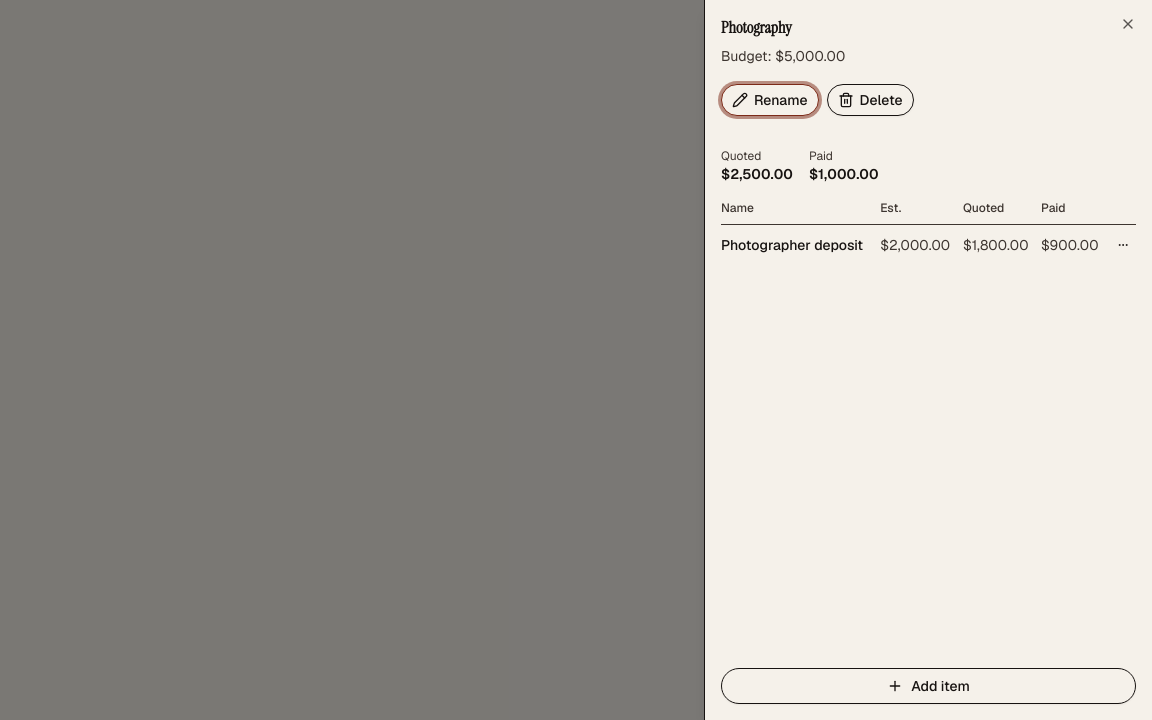
Test: BudgetCategoryPanel › shows edit form when edit menu item is clicked
What coordinates should you click on to do the following:
click the button named "Actions for Photographer deposit"
I would click on:
 (1122, 245)
Its box is [1110, 233, 1134, 257].
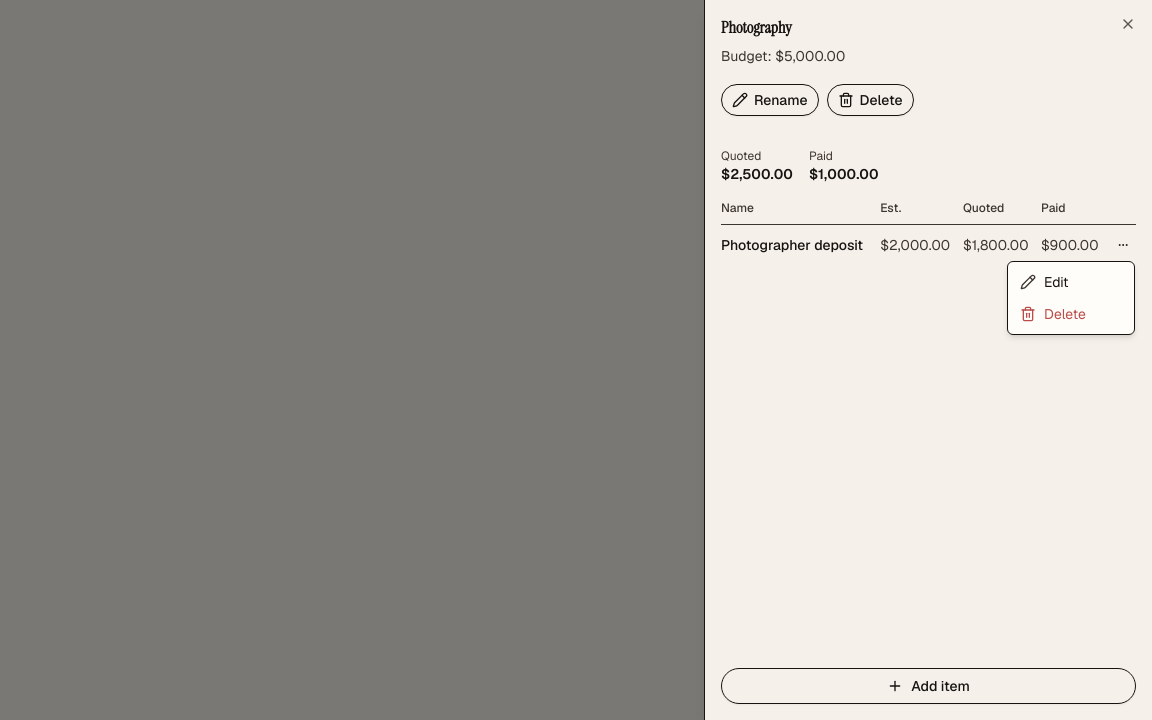
What coordinates should you click on to do the following:
click the menu item "Edit"
I would click on:
 (1044, 282)
Its box is [1020, 273, 1069, 291].
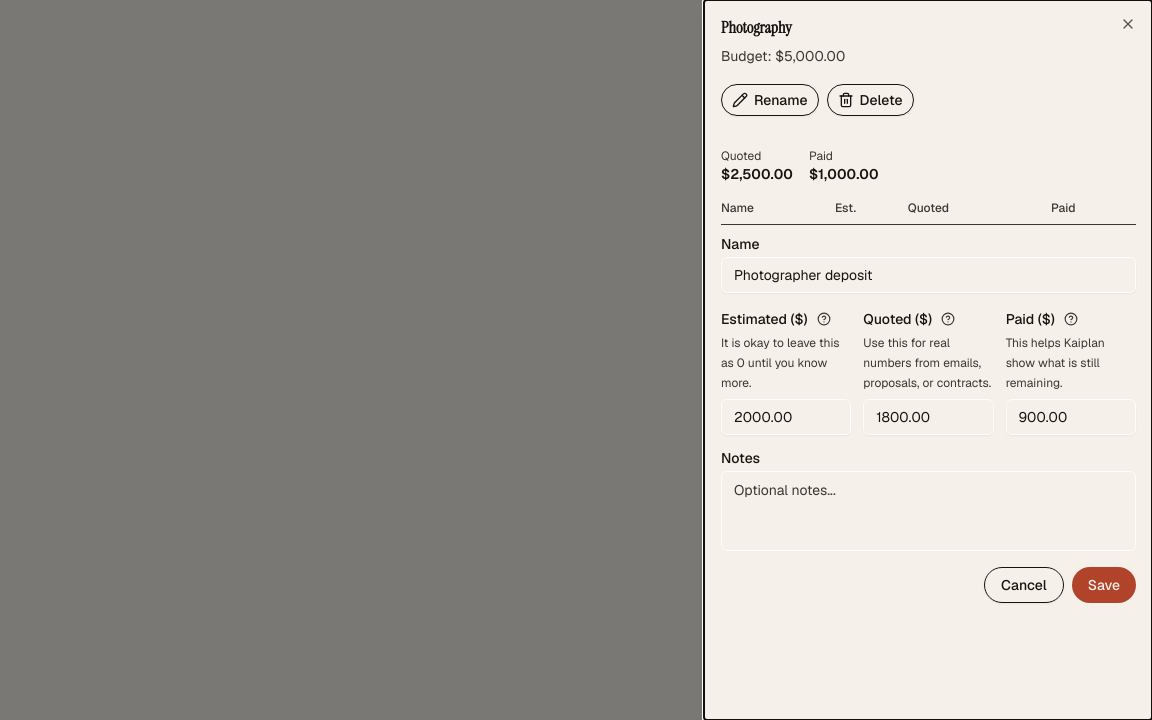
expect the field labelled "Name" holds "Photographer deposit": met, box [721, 257, 1136, 293]
